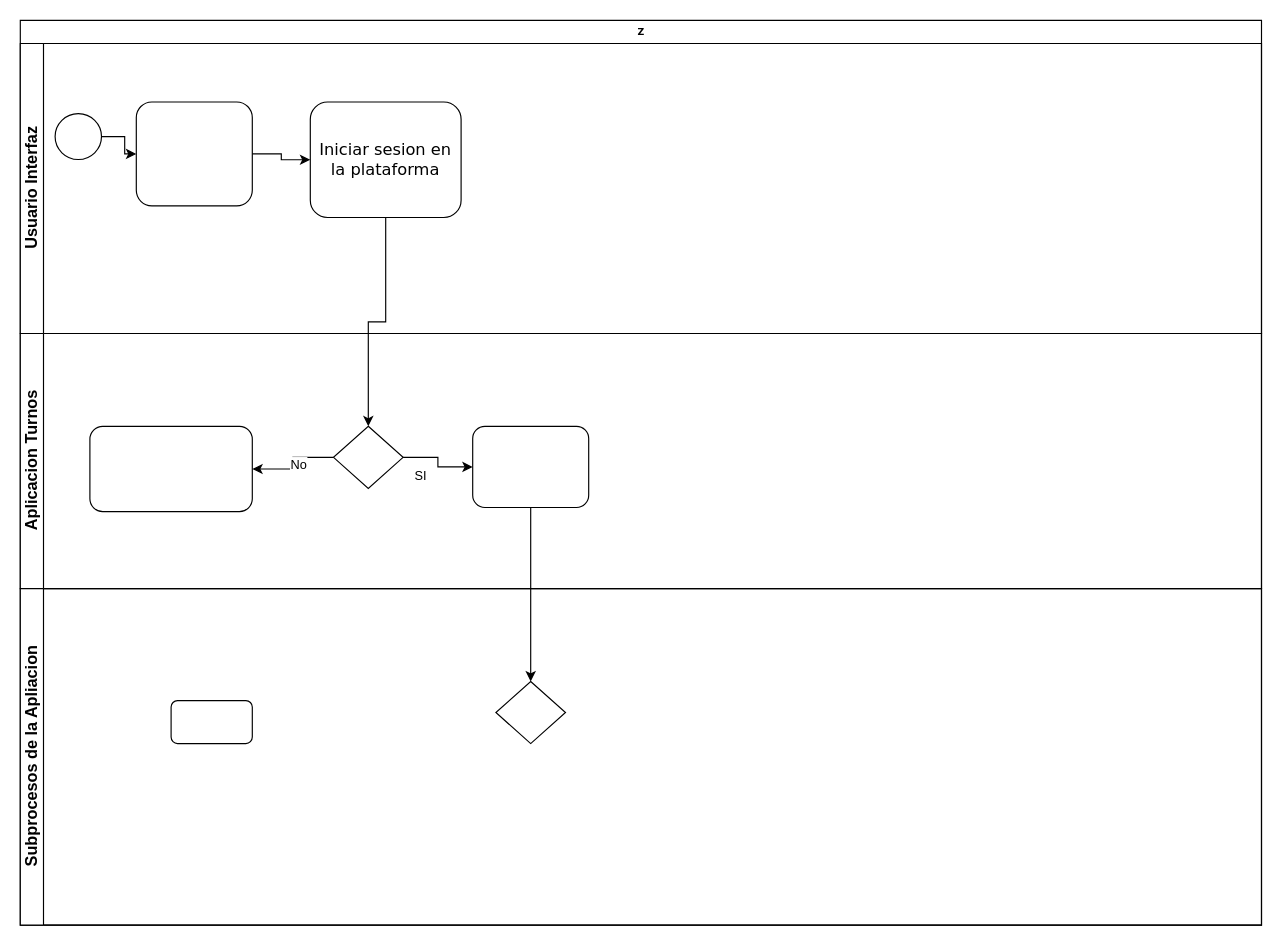
The diagram is 1282 pixels wide and 945 high, and some of its shapes have lost their labels. Here are the shapes that lost their labels. From the top down, the centre of each, then its label:
the point at 193,153: Acceder al sistema usando un Browser
the point at 170,468: Datos erroneos
the point at 530,466: Login
